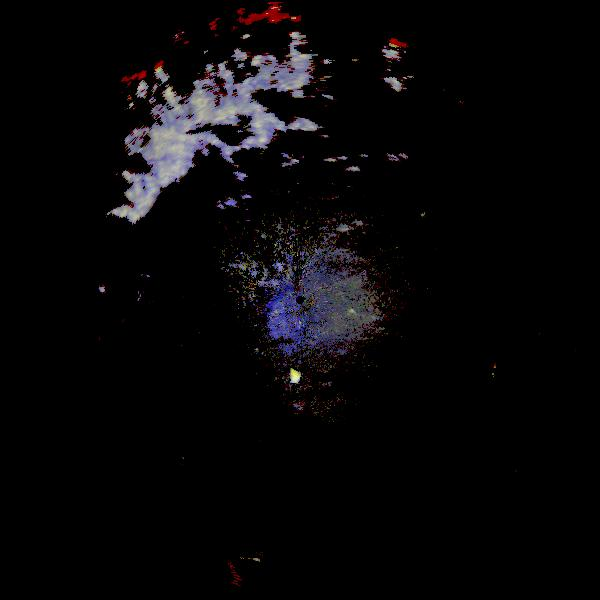roost: (486, 353, 522, 389), (284, 365, 305, 386)
